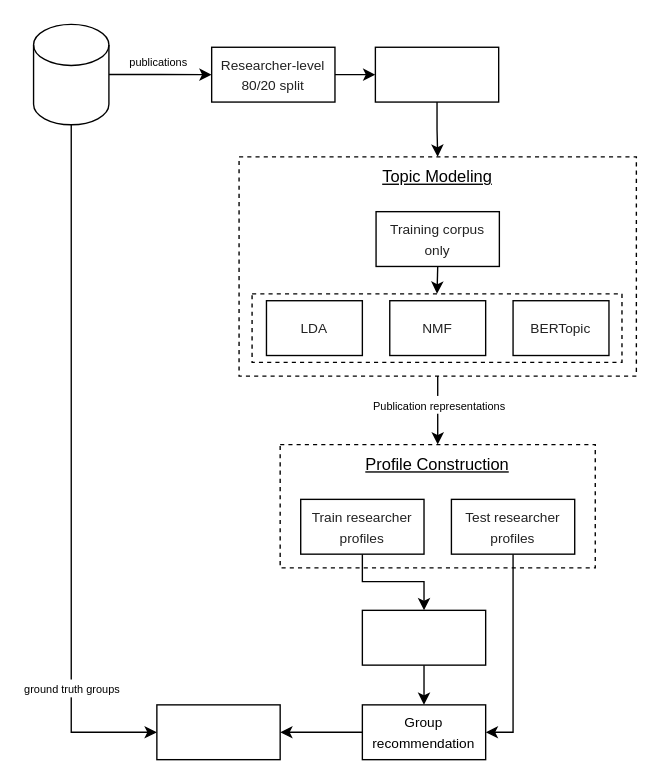
Some shapes in this 660 by 784 pixel diagram are drawn without their labels. Here are the shapes that lost their labels. From the top down, the box of each, then its label:
(32, 23, 109, 125): Research dataset
(374, 46, 499, 102): Preprocessing
(361, 609, 486, 665): Group profiles
(155, 703, 280, 760): Evaluation
